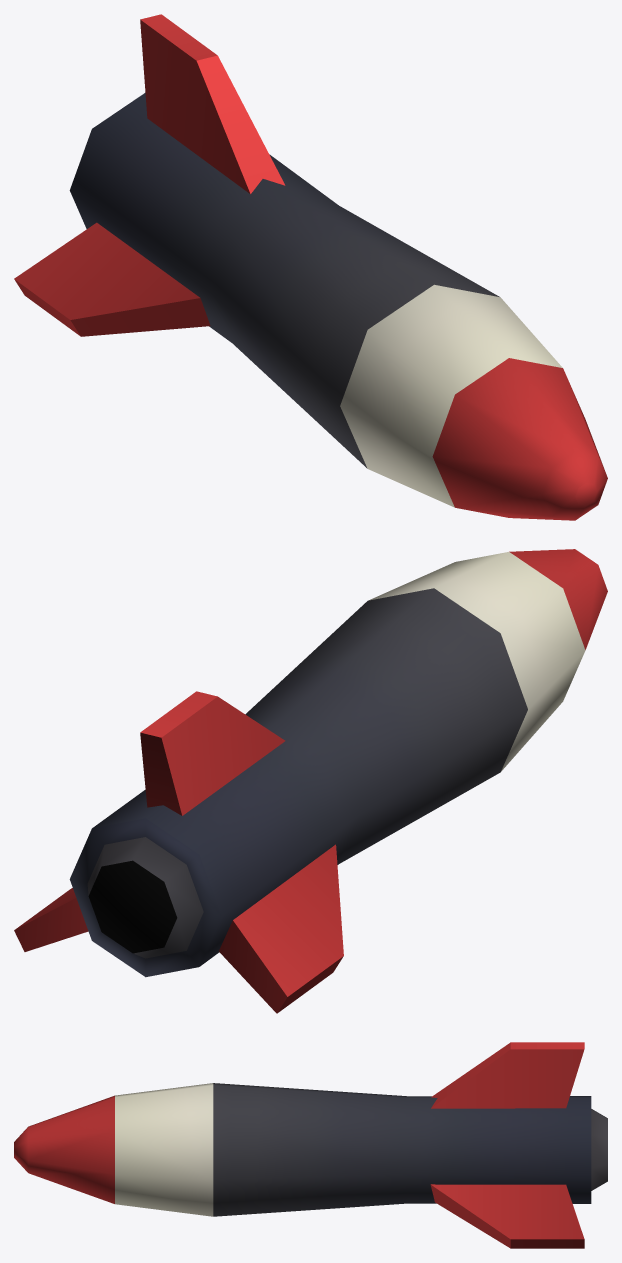
The model's file is Missile.fbx.
3 renders of one model, top to bottom at view 1: azimuth 30°, elevation 25°; view 2: azimuth 150°, elevation 25°; view 3: azimuth 270°, elevation 25°, orthographic. The views are drawn at different scales.
Parts seen in each view (by area): view 1: Missile; view 2: Missile; view 3: Missile.
Part boxes in pixels (left/top/right/bottom): Missile: left=14, top=14, right=607, bottom=520; Missile: left=14, top=549, right=607, bottom=1013; Missile: left=14, top=1042, right=607, bottom=1248.
Size of the model in its own units: 36.21 by 32.54 by 104.
